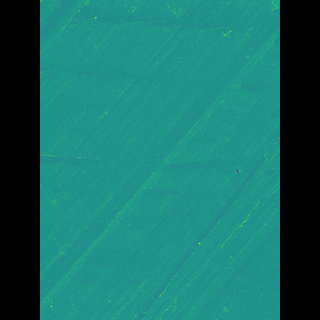Loch: (146, 156, 200, 207)
